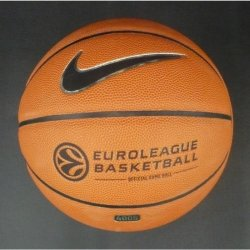basketball: (17, 17, 234, 232)
